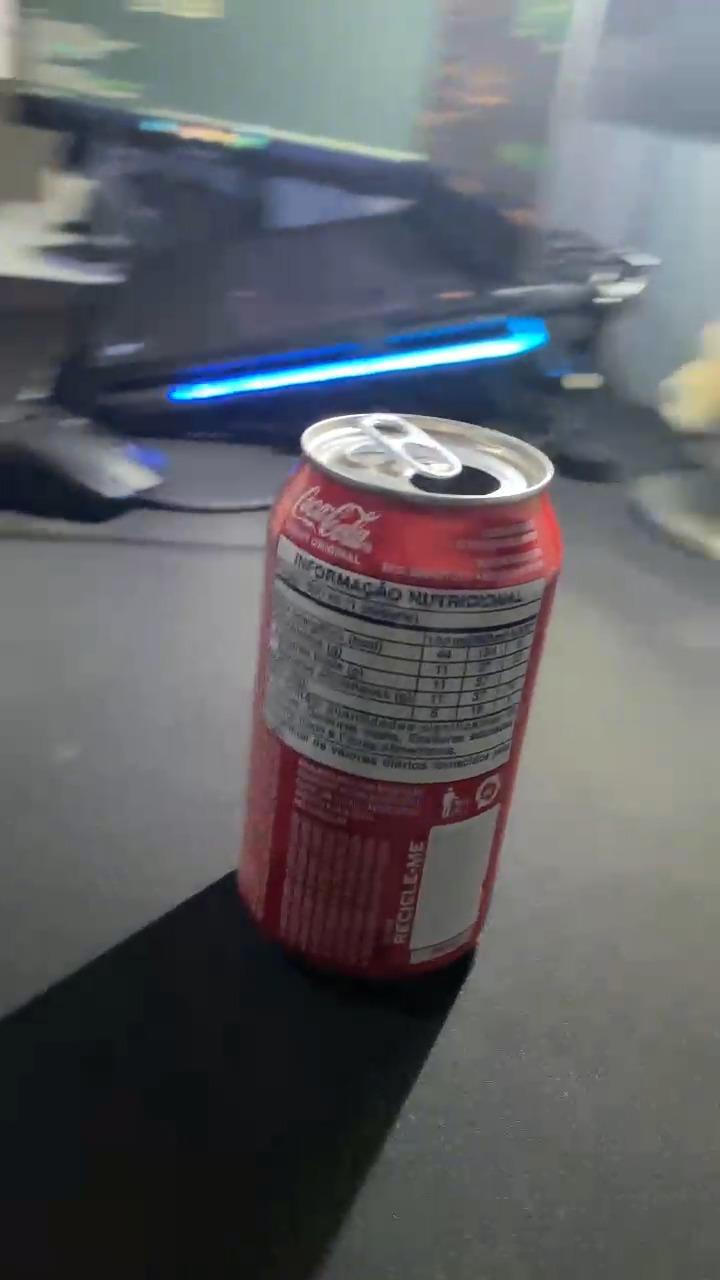coke: (237, 416, 567, 973)
